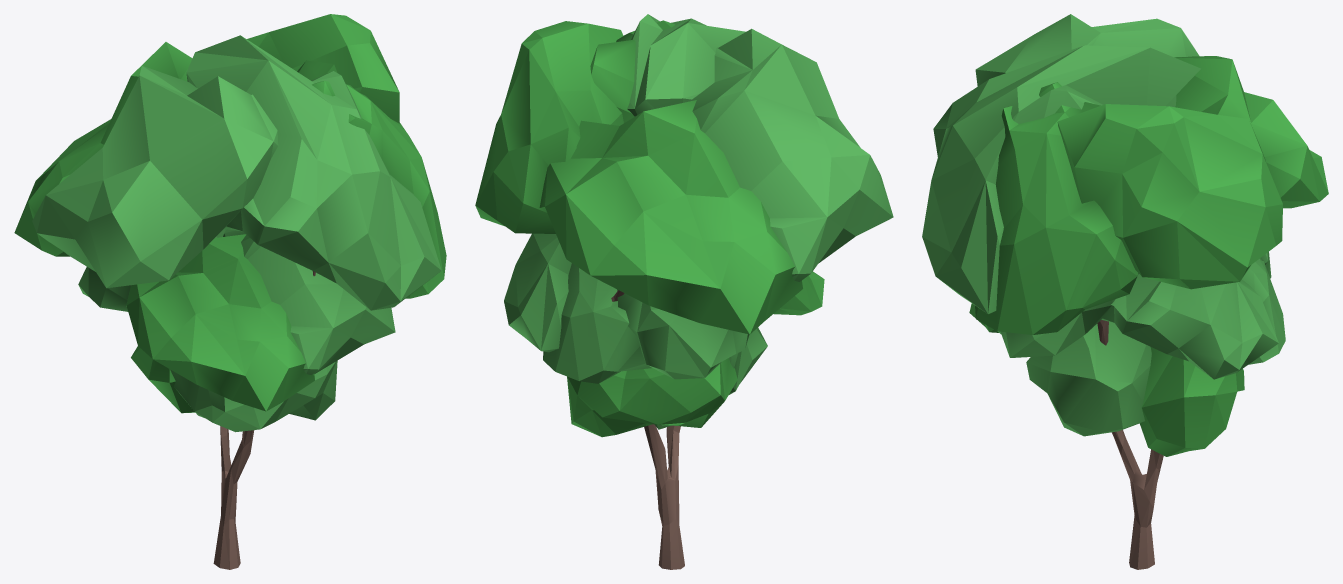
File: tree_008.glb
3 views of the same model, side by side, from view 1: azimuth 30°, elevation 25°; view 2: azimuth 150°, elevation 25°; view 3: azimuth 270°, elevation 25° (orthographic).
Parts seen in each view (by area): view 1: tree_008; view 2: tree_008; view 3: tree_008.
Boxes of the visible parts, x1=… form: tree_008: x1=14, y1=14, x2=446, y2=569; tree_008: x1=475, y1=14, x2=893, y2=569; tree_008: x1=922, y1=14, x2=1328, y2=569.
Size of the model in its own units: 5.49 by 8 by 5.57.
Materials: 1 (1 with a texture image).
